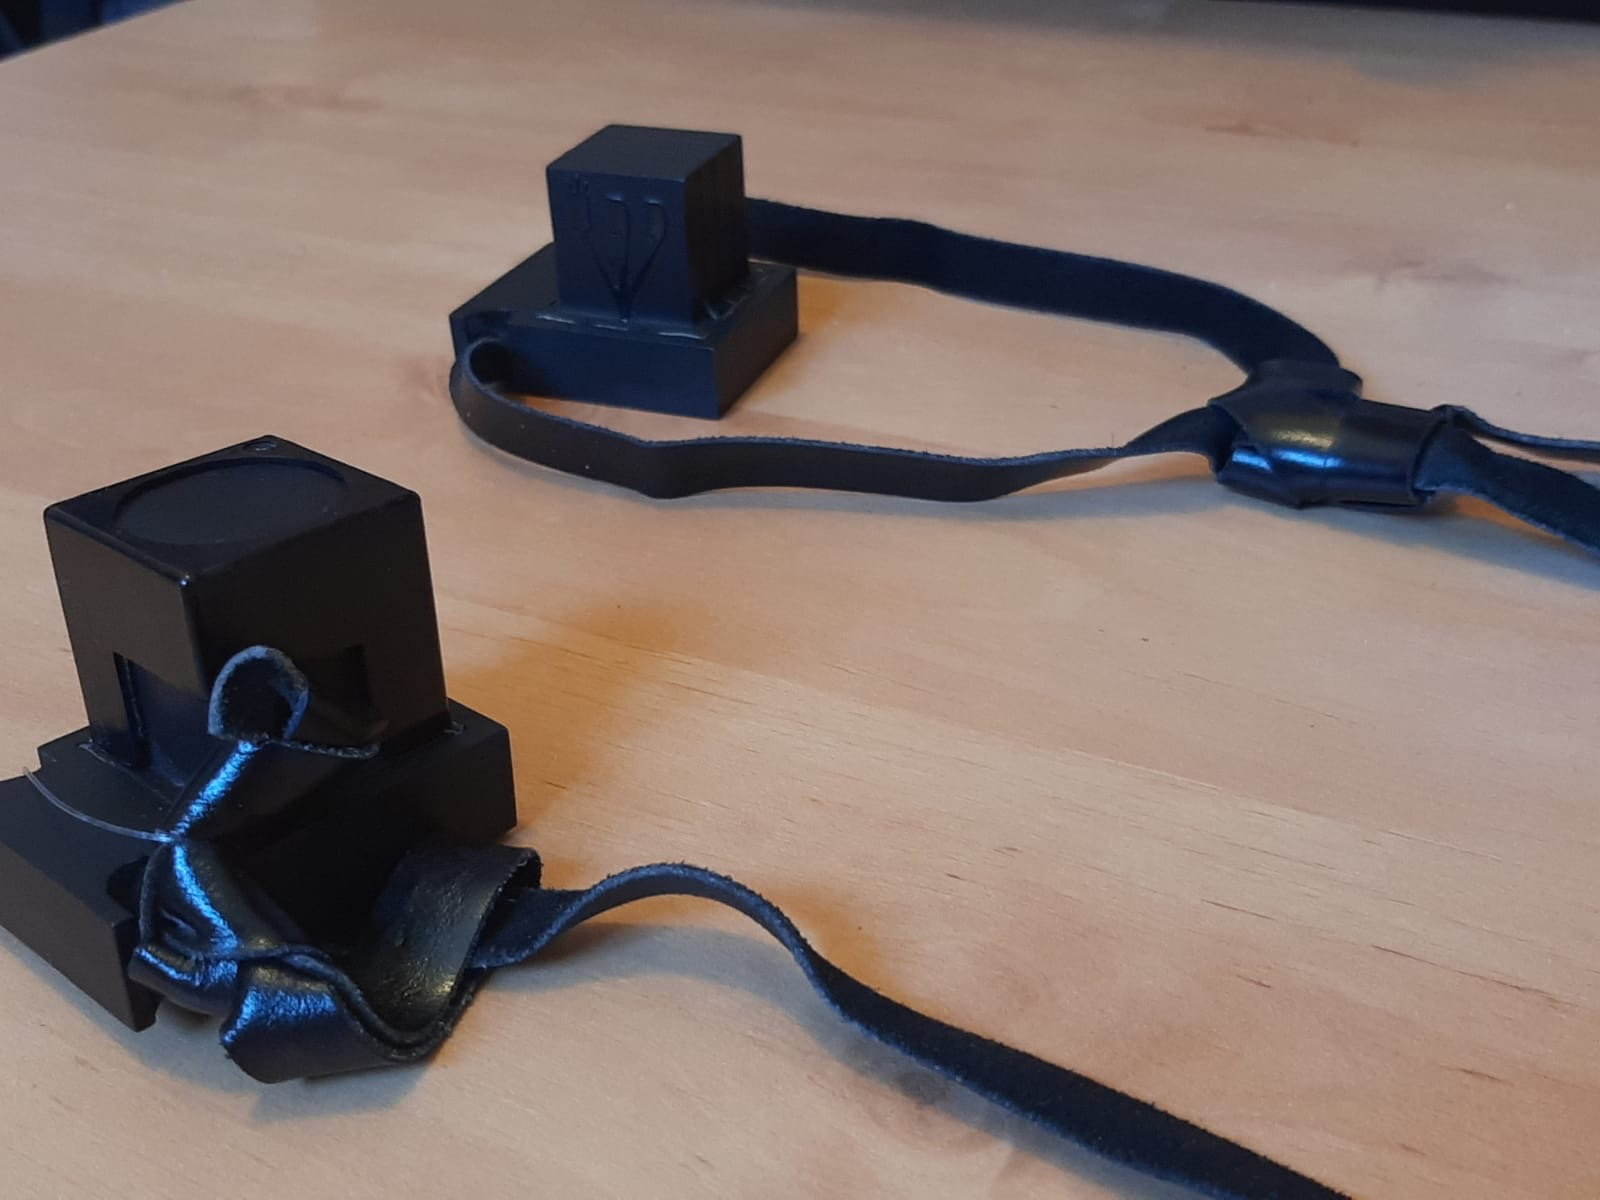tefillin: (8, 431, 513, 1034), (447, 122, 801, 421)
